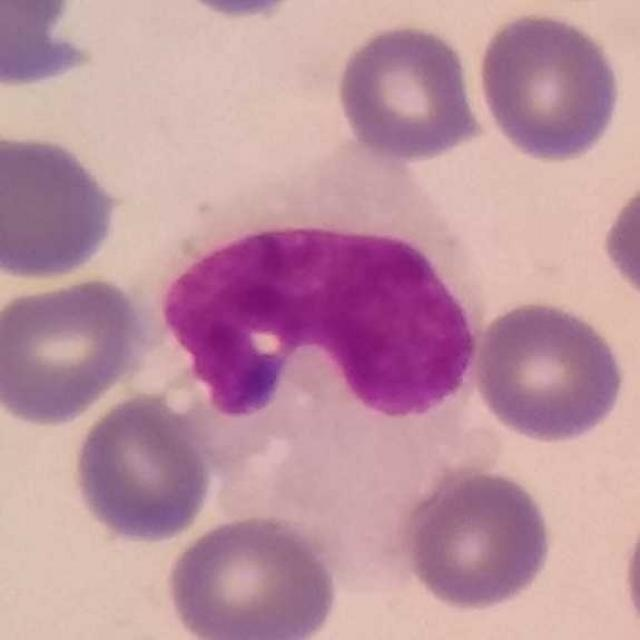mono: (131, 122, 499, 559)
